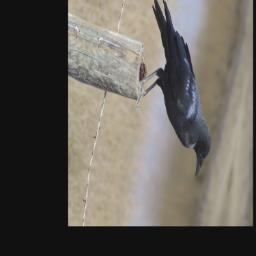Crow: (126, 0, 231, 183)
